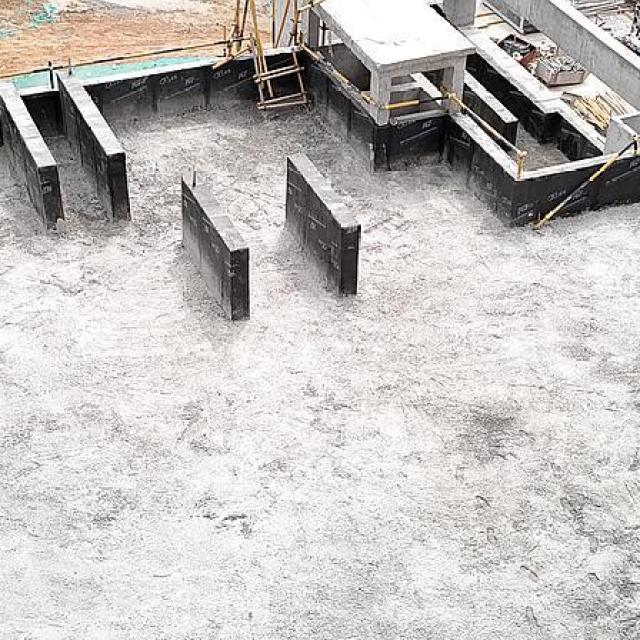edge_guardrail: (298, 26, 528, 181), (0, 32, 256, 89), (533, 134, 640, 229)
